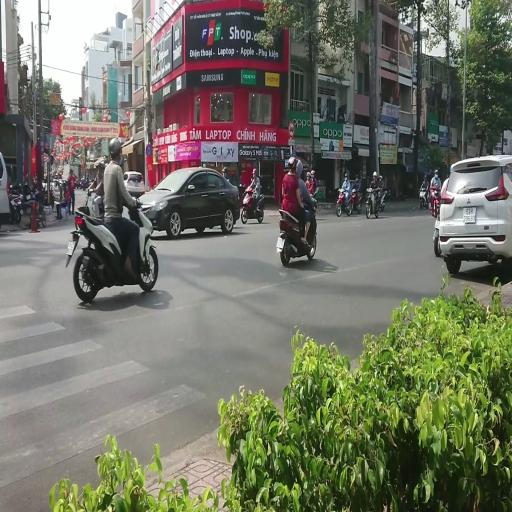bikes: (65, 194, 158, 302), (276, 188, 318, 266), (65, 187, 105, 267), (8, 181, 46, 228), (240, 184, 264, 224), (29, 189, 46, 227), (8, 182, 23, 224), (84, 187, 104, 218), (336, 186, 354, 216), (347, 185, 362, 215), (366, 186, 380, 218), (430, 186, 441, 218), (52, 178, 67, 201), (418, 184, 430, 209), (378, 188, 390, 210), (310, 186, 319, 214)
helmet: (288, 156, 302, 178), (108, 138, 122, 156), (94, 156, 107, 170), (295, 160, 303, 178), (288, 156, 298, 169), (100, 161, 106, 170), (96, 162, 102, 170), (306, 172, 311, 179), (292, 151, 297, 157), (252, 168, 256, 175), (373, 171, 377, 177), (310, 170, 314, 176), (344, 173, 348, 179), (81, 176, 85, 182), (223, 166, 227, 172), (424, 174, 427, 180), (340, 188, 343, 194), (70, 168, 73, 173), (450, 165, 452, 172), (435, 170, 438, 174), (379, 176, 382, 180), (356, 175, 358, 179)
